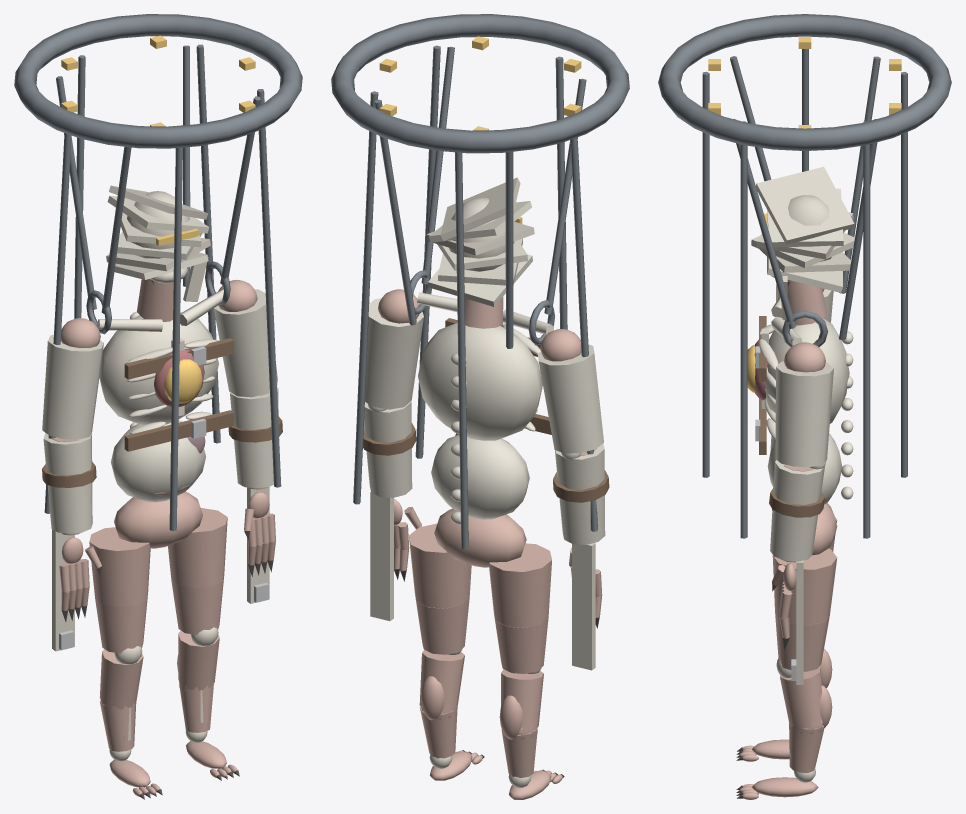
Rendered from suspended.glb.
3 views of the same model, side by side, from view 1: azimuth 30°, elevation 25°; view 2: azimuth 150°, elevation 25°; view 3: azimuth 270°, elevation 25° (orthographic). The views are drawn at different scales.
Visible parts, largest first — view 1: ward_steel.002, ward_canvas.009, ward_canvas.003, ward_canvas.010, ward_canvas, ward_skin.012, ward_canvas.004, ward_skin, ward_skin.066, ward_canvas.001, ward_steel.008, ward_steel.007 (+37 smaller); view 2: ward_steel.002, ward_canvas.009, ward_canvas.010, ward_canvas.003, ward_canvas, ward_skin.012, ward_skin, ward_skin.066, ward_canvas.001, ward_canvas.004, ward_steel.010, ward_steel.011 (+31 smaller); view 3: ward_steel.002, ward_canvas, ward_bandage.003, ward_canvas.001, ward_steel.011, ward_steel.007, ward_steel.008, ward_skin, ward_steel.010, ward_canvas.009, ward_skin.003, ward_skin.001 (+21 smaller).
Part boxes in pixels (x1,y1,x2,y2): ward_steel.002: (14,14,302,148); ward_canvas.009: (99,312,218,425); ward_canvas.003: (42,334,103,439); ward_canvas.010: (111,420,205,502); ward_canvas: (213,289,277,397); ward_skin.012: (89,527,150,606); ward_canvas.004: (43,433,92,533); ward_skin: (168,508,227,588); ward_skin.066: (114,491,202,548); ward_canvas.001: (230,387,278,488); ward_steel.008: (169,147,182,531); ward_steel.007: (257,89,281,487); ward_steel.002: (331,14,629,153); ward_canvas.009: (418,322,542,440); ward_canvas.010: (431,435,529,519); ward_canvas.003: (537,344,603,453); ward_canvas: (365,298,423,409); ward_skin.012: (489,543,551,627); ward_skin: (409,523,471,608); ward_skin.066: (434,508,526,567); ward_canvas.001: (364,401,412,497); ward_canvas.004: (555,443,605,544); ward_steel.010: (455,152,468,549); ward_steel.011: (353,91,378,504); ward_steel.002: (658,14,951,150); ward_canvas: (775,361,833,466); ward_bandage.003: (756,166,854,244); ward_canvas.001: (770,460,824,561); ward_steel.011: (863,121,870,538); ward_steel.007: (740,121,747,538); ward_steel.008: (702,71,709,477); ward_skin: (772,548,837,625); ward_steel.010: (901,71,907,477); ward_canvas.009: (765,318,849,423); ward_skin.003: (780,666,822,728); ward_skin.001: (775,613,829,671).
Bounding box in the file's own units: 1.04 × 2.75 × 1.04.
